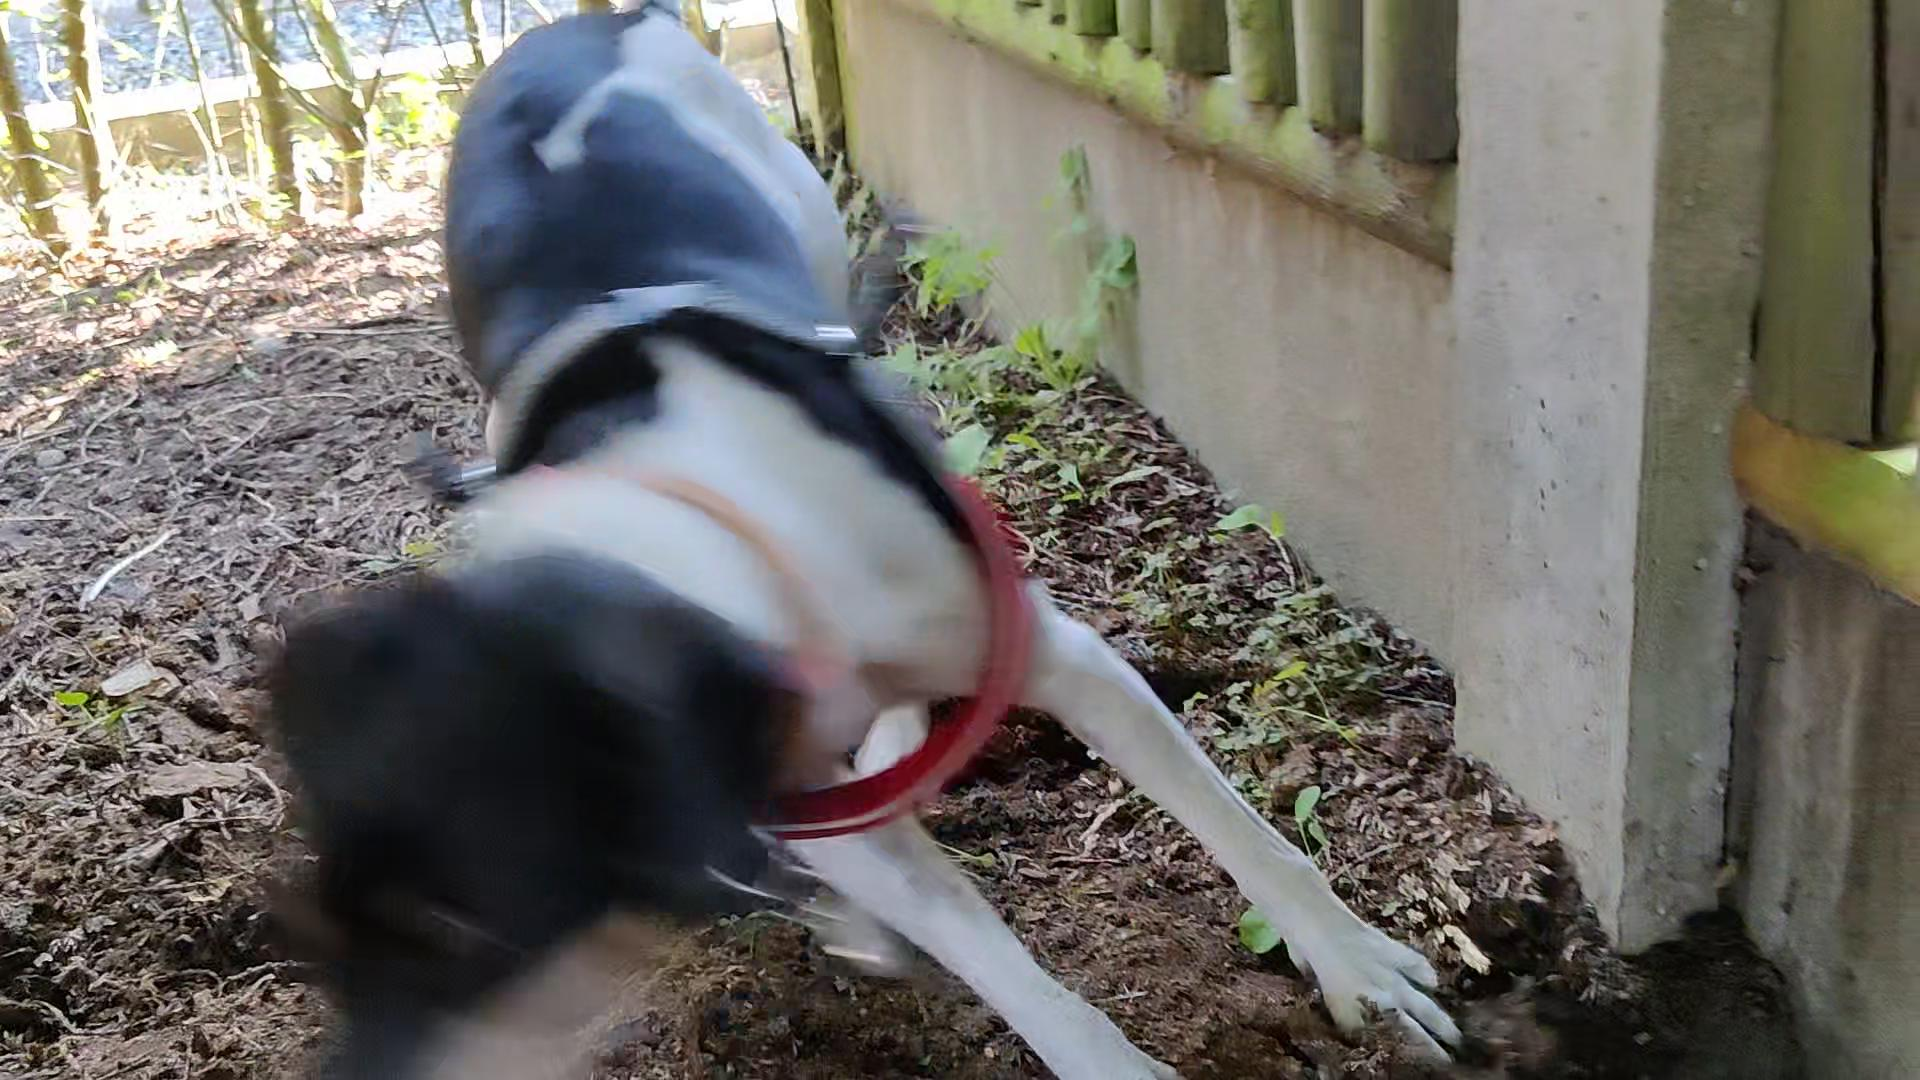Dog: (240, 0, 1468, 1080)
